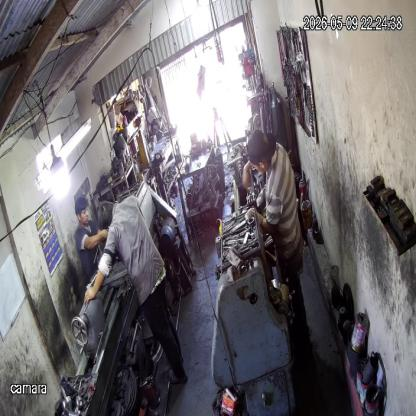sin_lentes: (78, 209, 89, 216)
